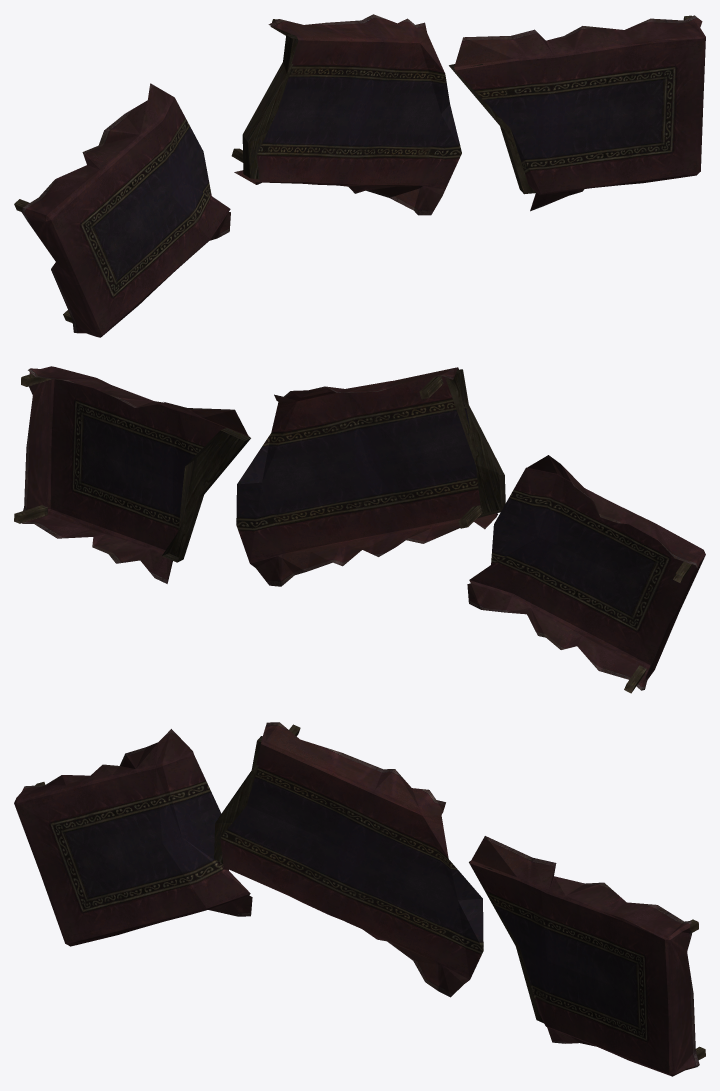
The model's file is tanxian_fuben_257_canting_01_a.obj.
3 renders of one model, top to bottom at view 1: azimuth 30°, elevation 25°; view 2: azimuth 150°, elevation 25°; view 3: azimuth 330°, elevation 25°, orthographic.
Visible parts, largest first — view 1: tanxian_fuben_257_canting_01_a; view 2: tanxian_fuben_257_canting_01_a; view 3: tanxian_fuben_257_canting_01_a.
Boxes of the visible parts, box(x1,y1,x2,y2) form: tanxian_fuben_257_canting_01_a: box(14, 14, 705, 337); tanxian_fuben_257_canting_01_a: box(14, 366, 705, 693); tanxian_fuben_257_canting_01_a: box(14, 722, 705, 1076).
Bounding box in the file's own units: 469 × 177 × 43.08.
Materials: 2 (2 with a texture image).
